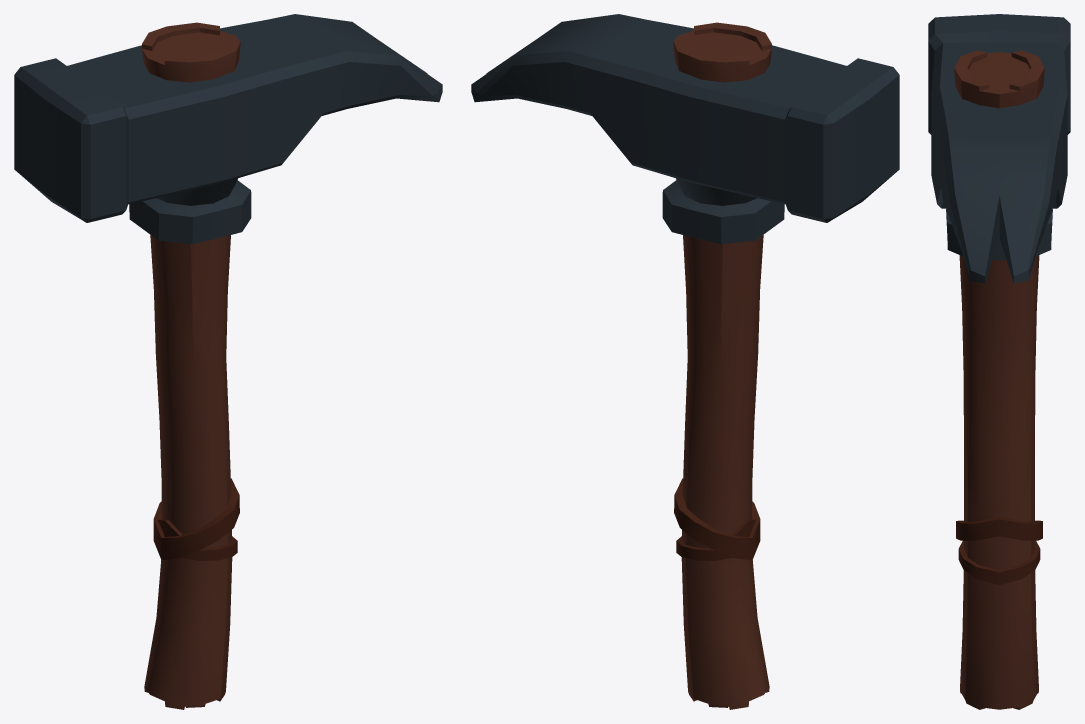
Rendered from hammer.fbx.
3 views of the same model, side by side, from view 1: azimuth 30°, elevation 25°; view 2: azimuth 150°, elevation 25°; view 3: azimuth 270°, elevation 25° (orthographic). The views are drawn at different scales.
Visible parts, largest first — view 1: hammer; view 2: hammer; view 3: hammer.
Part boxes in pixels (x1,y1,x2,y2): hammer: [14, 14, 442, 709]; hammer: [471, 14, 899, 709]; hammer: [928, 14, 1070, 709].
Size of the model in its own units: 22.05 by 35.16 by 7.19.
